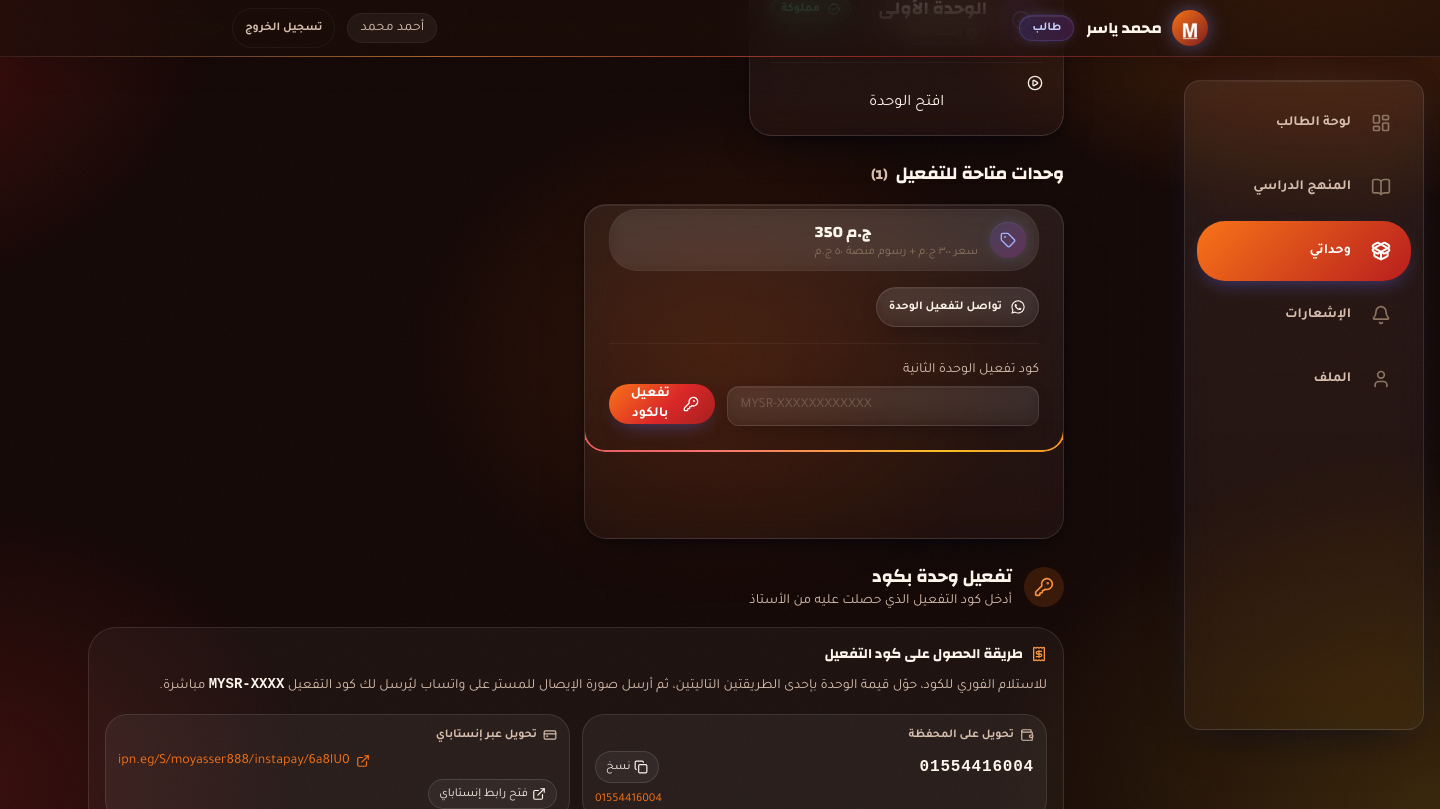
Test: UnitsPage › shows a card-level error when redeeming an invalid code from a locked unit card
The width and height of the screenshot is (1440, 809).
(page scrolled)
Type "MYSR-BAD-CODE-0000" into the field labelled "كود تفعيل الوحدة الثانية" at (883, 406), box [728,386,1039,426]
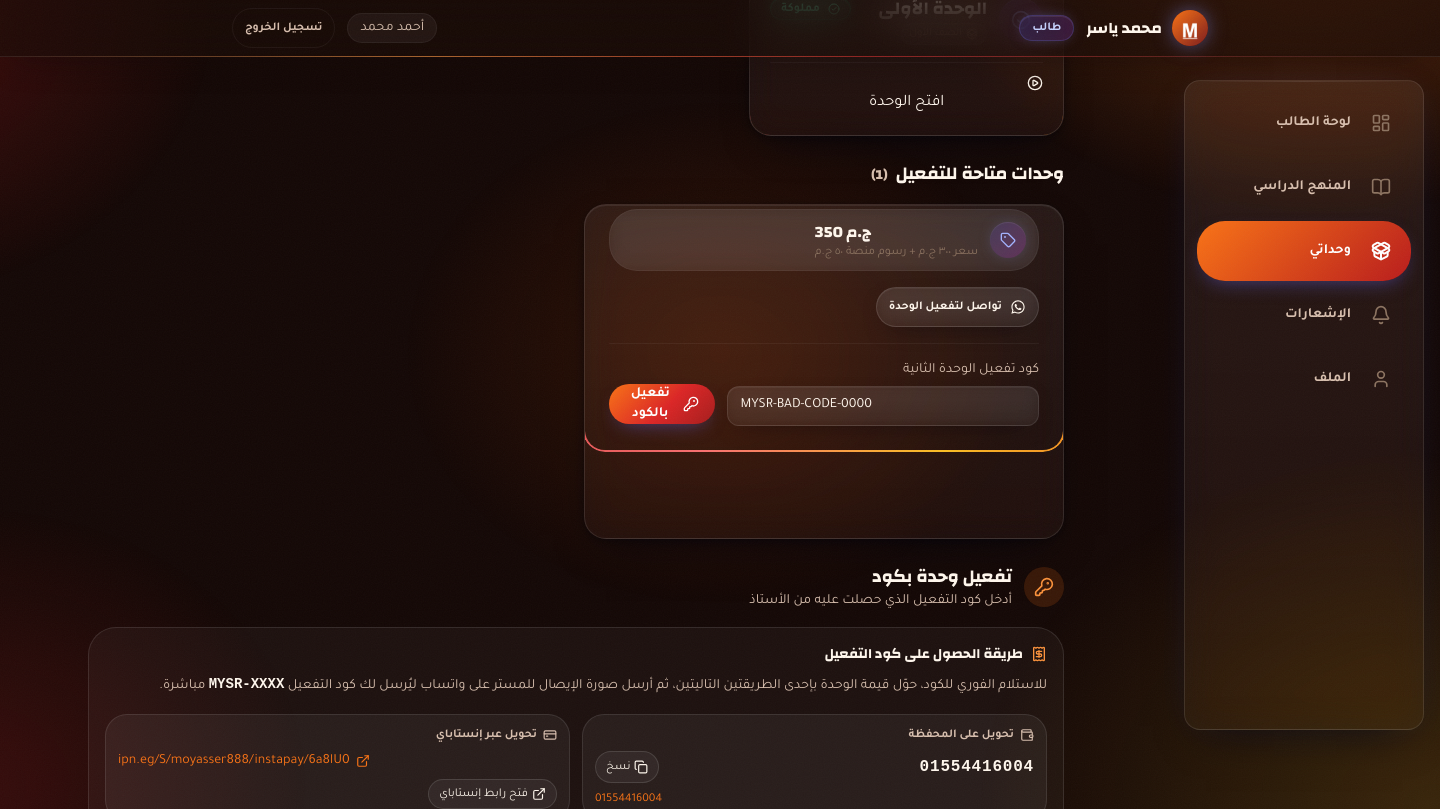
Click the button "تفعيل بالكود" at (662, 404), box [609,384,716,424]
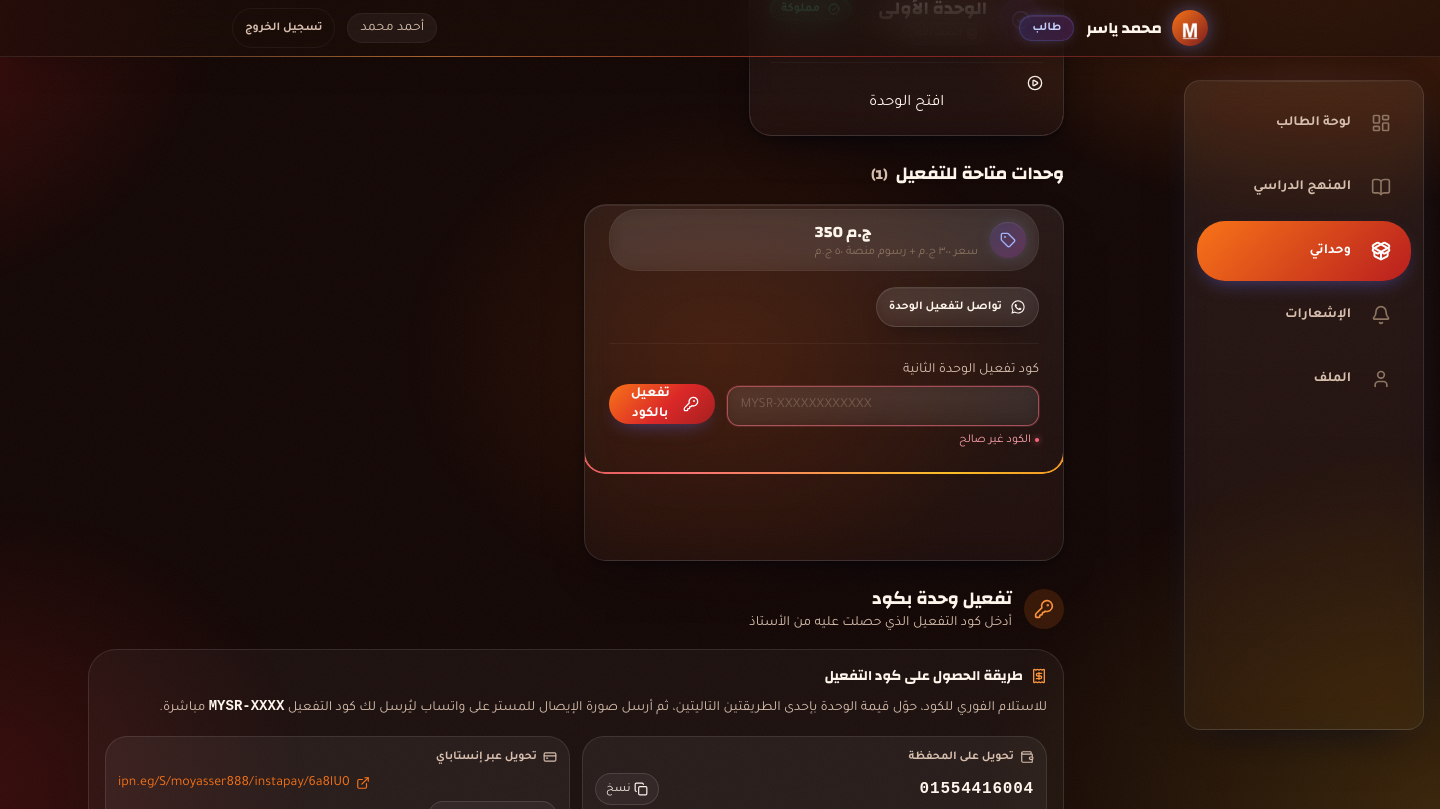
expect the text "الكود غير صالح" is shown: met, box [959,434,1039,446]
